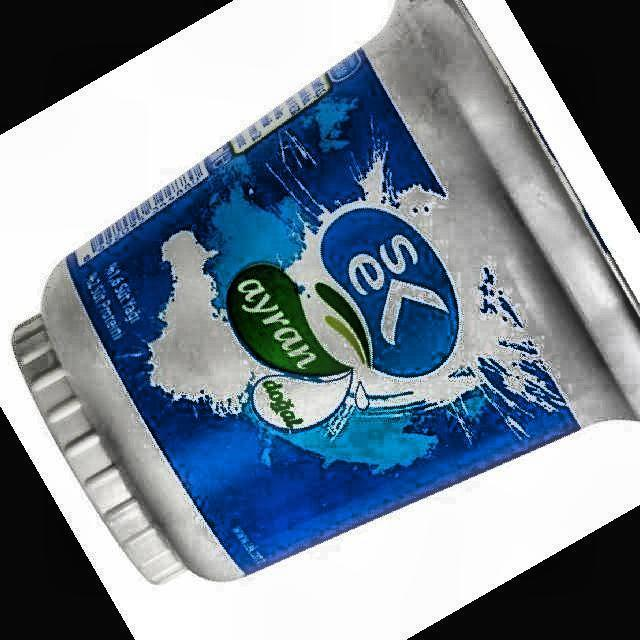plastic: (12, 2, 640, 581)
